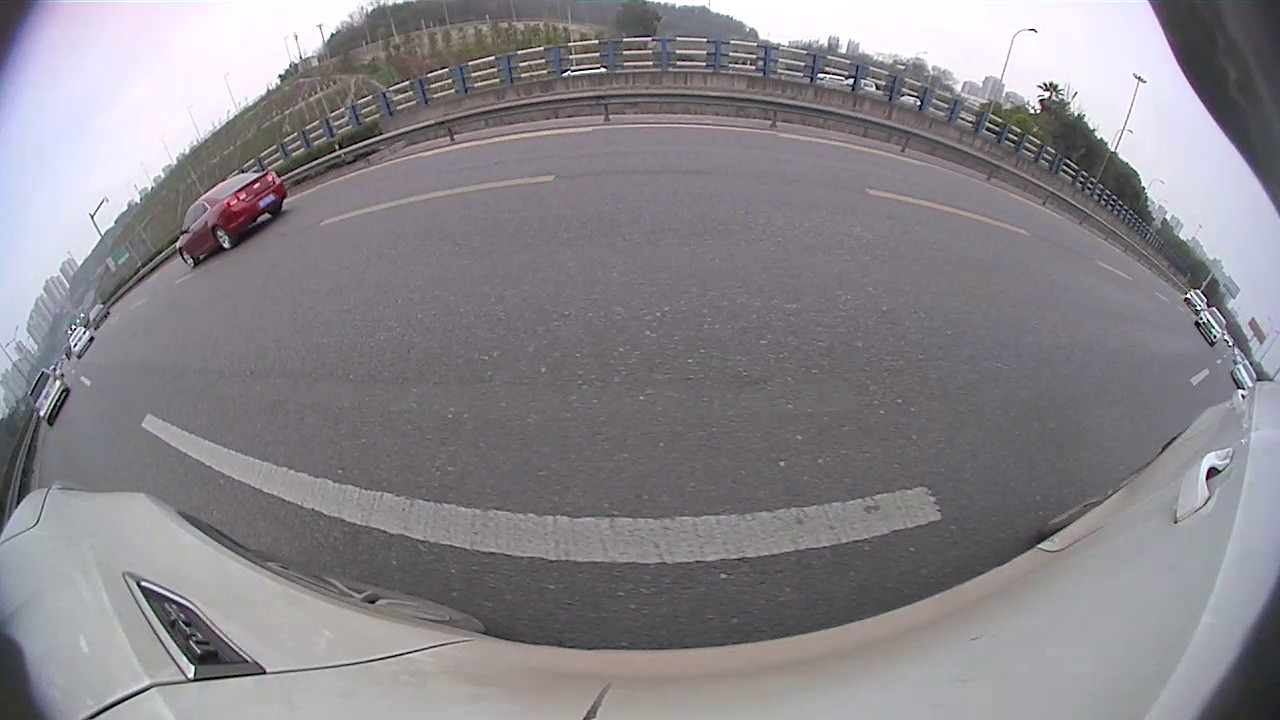car: (173, 167, 290, 270), (25, 365, 73, 428), (1195, 304, 1228, 347), (67, 324, 96, 360), (1229, 358, 1258, 391), (1182, 286, 1209, 314), (87, 302, 111, 331)
front: (180, 247, 196, 269)
rear: (213, 226, 233, 250)
